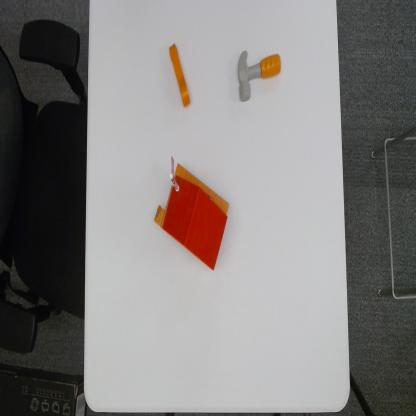Hammer: (236, 48, 282, 104)
House: (153, 153, 231, 271)
Screwdriver: (168, 42, 193, 108)
